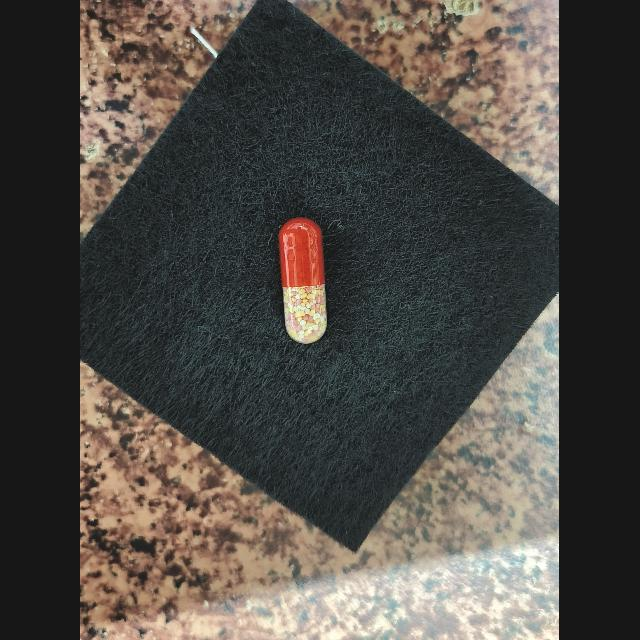Intact Capsule: (279, 218, 328, 344)
